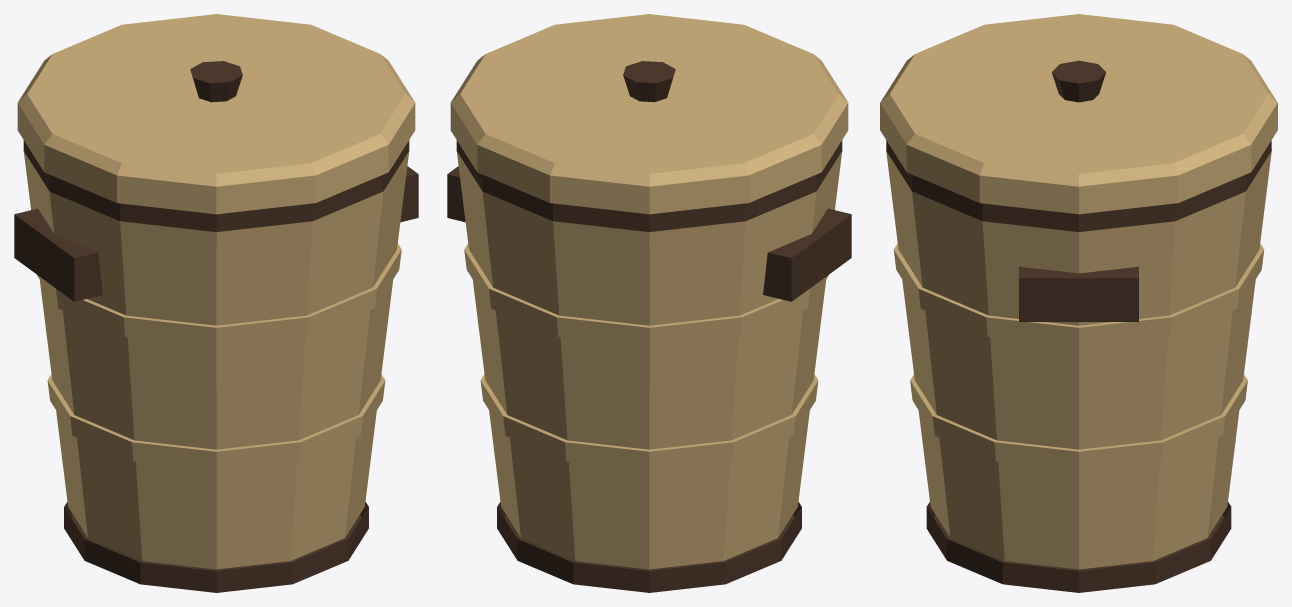
The model's file is FN_Basket_Laundry.obj.
3 views of the same model, side by side, from view 1: azimuth 30°, elevation 25°; view 2: azimuth 150°, elevation 25°; view 3: azimuth 270°, elevation 25° (orthographic).
Parts seen in each view (by area): view 1: FN_Basket_Laundry; view 2: FN_Basket_Laundry; view 3: FN_Basket_Laundry.
Part boxes in pixels (<box>): FN_Basket_Laundry: <box>14,14,418,592</box>; FN_Basket_Laundry: <box>447,14,851,592</box>; FN_Basket_Laundry: <box>880,14,1277,592</box>.
Bounding box in the file's own units: 0.496 × 0.628 × 0.496.
Materials: 1 (1 with a texture image).
